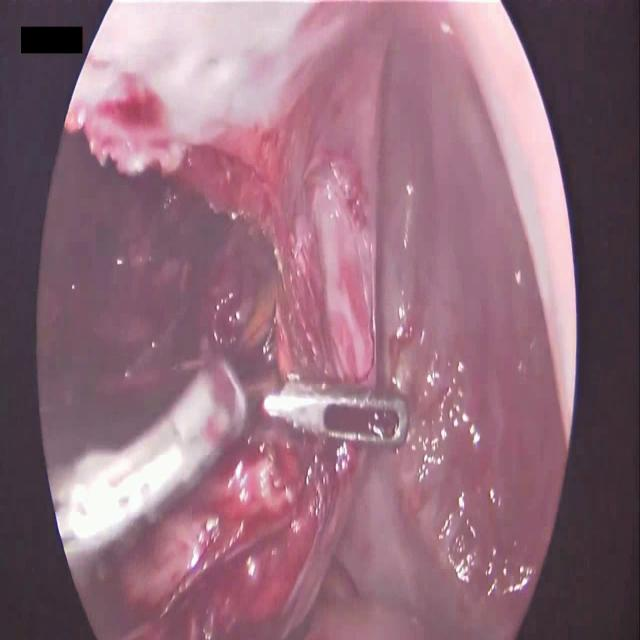surgical-area: (34, 0, 580, 639)
surgical-tool: (261, 372, 408, 450)
